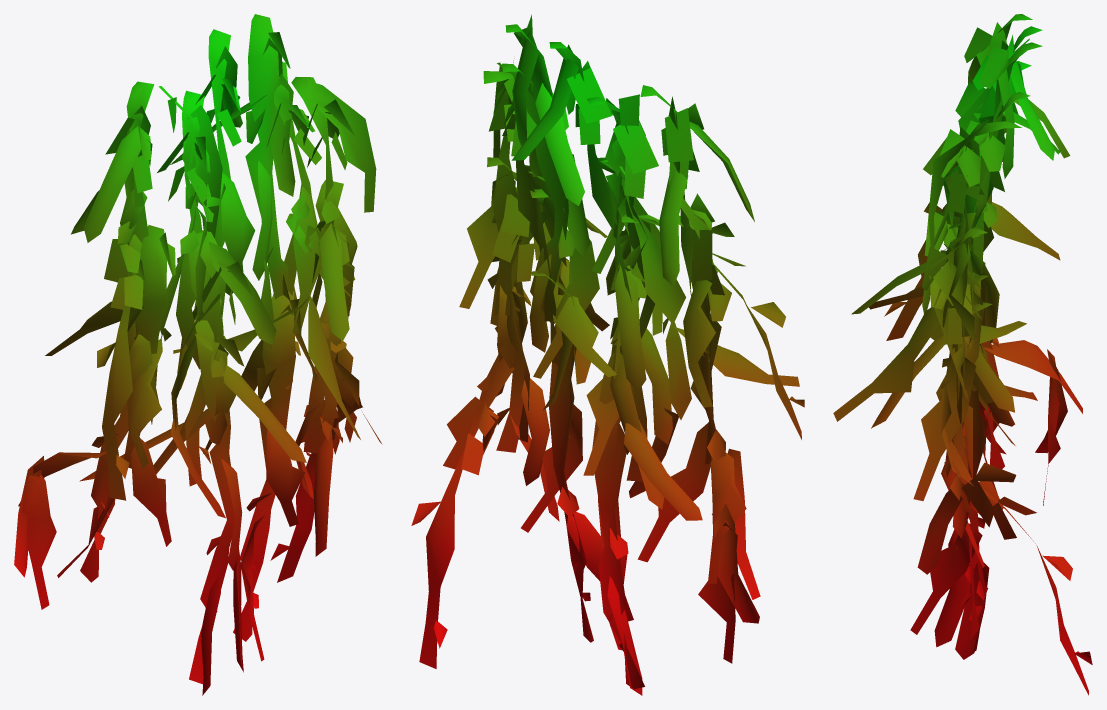
The model's file is Var5_LOD5.fbx.
The picture shows the model from 3 angles, left to right: view 1: azimuth 30°, elevation 25°; view 2: azimuth 150°, elevation 25°; view 3: azimuth 270°, elevation 25°; orthographic projection. The views are drawn at different scales.
Visible parts, largest first — view 1: _mg7a_Var5_LOD5; view 2: _mg7a_Var5_LOD5; view 3: _mg7a_Var5_LOD5.
Boxes of the visible parts, <box> form: _mg7a_Var5_LOD5: <box>14,14,382,695</box>; _mg7a_Var5_LOD5: <box>411,14,804,695</box>; _mg7a_Var5_LOD5: <box>833,14,1092,695</box>.
Bounding box in the file's own units: 65.71 × 124 × 44.25.
